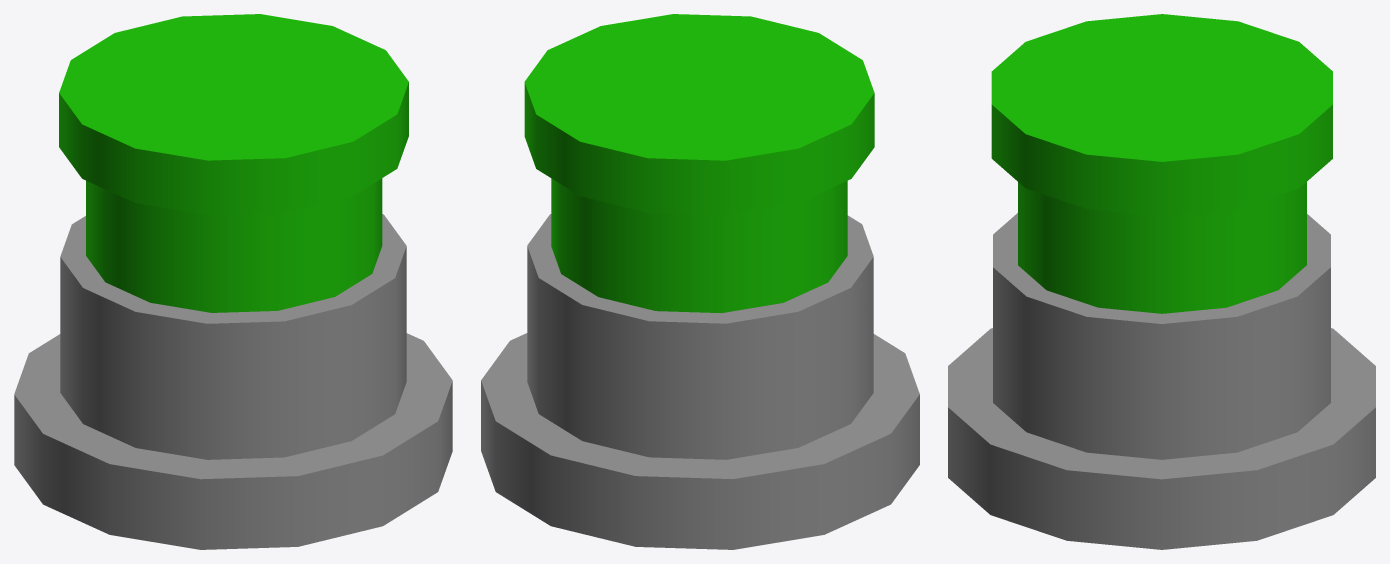
Rendered from Button.FBX.
The picture shows the model from 3 angles, left to right: view 1: azimuth 30°, elevation 25°; view 2: azimuth 150°, elevation 25°; view 3: azimuth 270°, elevation 25°; orthographic projection.
Parts seen in each view (by area): view 1: Button (×2); view 2: Button (×2); view 3: Button (×2).
Boxes of the visible parts, bbox=[...] form: Button (×2): bbox=[14, 14, 452, 549]; Button (×2): bbox=[481, 14, 919, 549]; Button (×2): bbox=[948, 14, 1375, 549].
Size of the model in its own units: 3.87 by 3.6 by 3.78.
